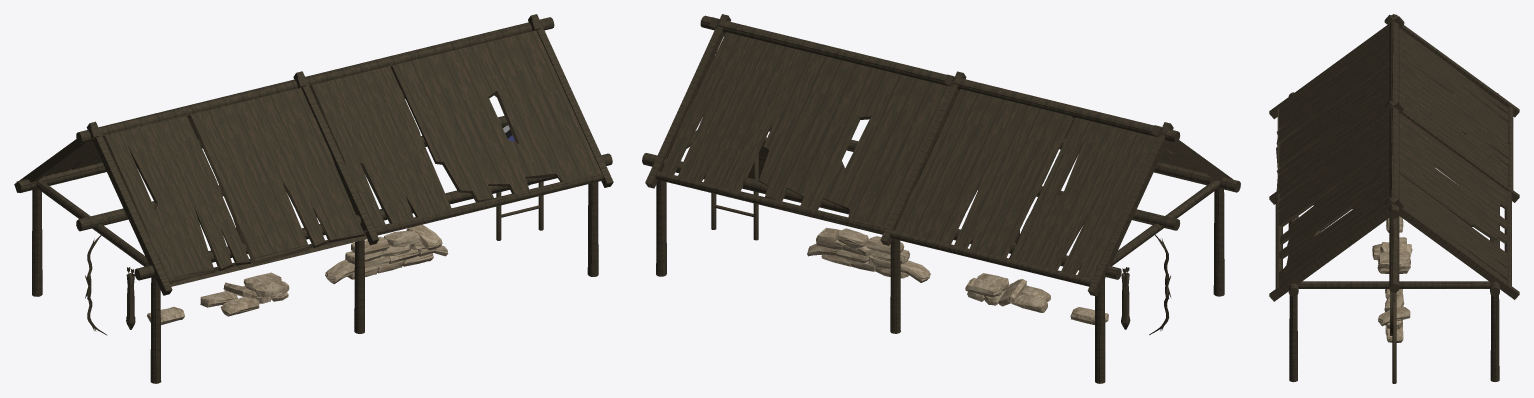
Rendered from Drill.fbx.
The picture shows the model from 3 angles, left to right: view 1: azimuth 30°, elevation 25°; view 2: azimuth 150°, elevation 25°; view 3: azimuth 270°, elevation 25°; orthographic projection. The views are drawn at different scales.
Visible parts, largest first — view 1: Canopy, CanopyLowPoly, SandBagC, SandBagB, SandBagCLowPoly, SandBagBLowPoly, Target; view 2: Canopy, CanopyLowPoly, SandBagC, SandBagB, Target, SandBagCLowPoly, SandBagBLowPoly; view 3: Canopy, CanopyLowPoly, SandBagB, SandBagC, Target, SandBagCLowPoly, SandBagBLowPoly.
Boxes of the visible parts, x1,y1,x2,y2 form: Canopy: (14, 14, 613, 383); CanopyLowPoly: (16, 19, 612, 383); SandBagC: (325, 224, 448, 284); SandBagB: (200, 272, 289, 316); SandBagCLowPoly: (325, 225, 447, 283); SandBagBLowPoly: (200, 274, 288, 315); Target: (496, 125, 543, 240); Canopy: (642, 14, 1240, 383); CanopyLowPoly: (642, 15, 1240, 383); SandBagC: (807, 228, 930, 282); SandBagB: (965, 273, 1050, 312); Target: (711, 137, 768, 240); SandBagCLowPoly: (808, 228, 929, 282); SandBagBLowPoly: (965, 277, 1050, 312); Canopy: (1269, 14, 1519, 381); CanopyLowPoly: (1276, 14, 1513, 382); SandBagB: (1372, 237, 1412, 273); SandBagC: (1378, 289, 1409, 342); Target: (1390, 291, 1396, 383); SandBagCLowPoly: (1378, 289, 1410, 342); SandBagBLowPoly: (1372, 237, 1411, 273).
Size of the model in its own units: 14.25 by 6.19 by 7.67.
